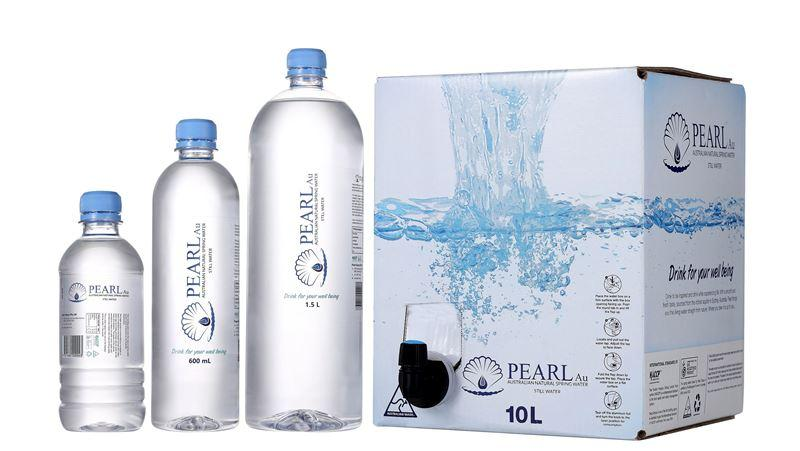bottle: (146, 111, 244, 436), (262, 0, 349, 210), (49, 300, 144, 321)
